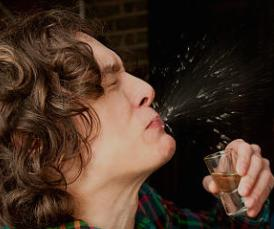Spitting: (4, 9, 208, 179)
